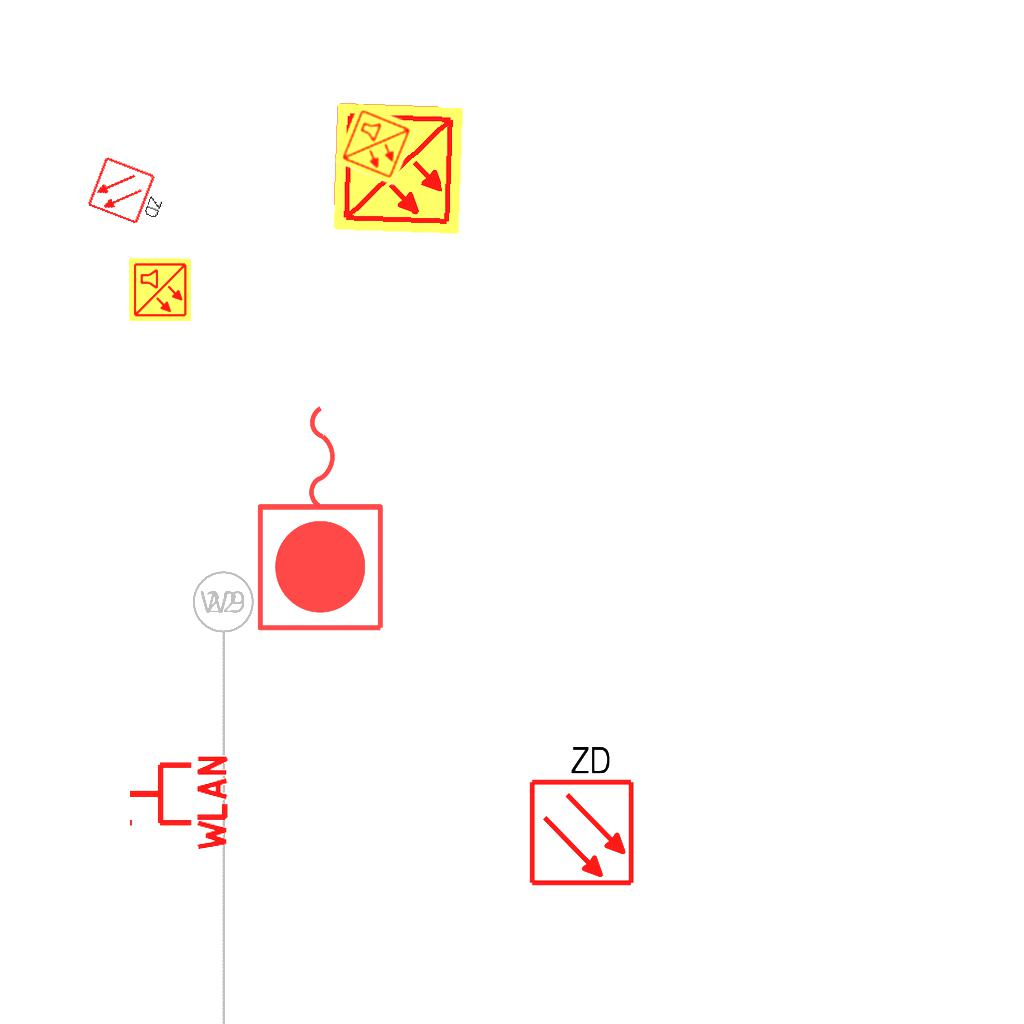OKW_Multisensormelder_(Kombination_optischer_Rauch-Kahlenmonoxid_Waerme-Melder): (329, 100, 467, 238), (333, 101, 419, 187), (127, 257, 193, 323)
WLAN: (125, 751, 230, 855)
ZD_Melder_in_Zwischendecke_mit_Revisionsoeffnung_mind_40_x_40_cm: (523, 739, 637, 888), (85, 153, 176, 233)
Zugtaster: (250, 395, 394, 639)
